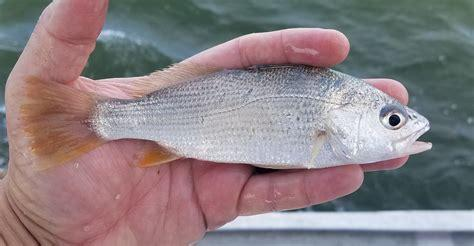Silver Perch: (21, 58, 436, 175)
